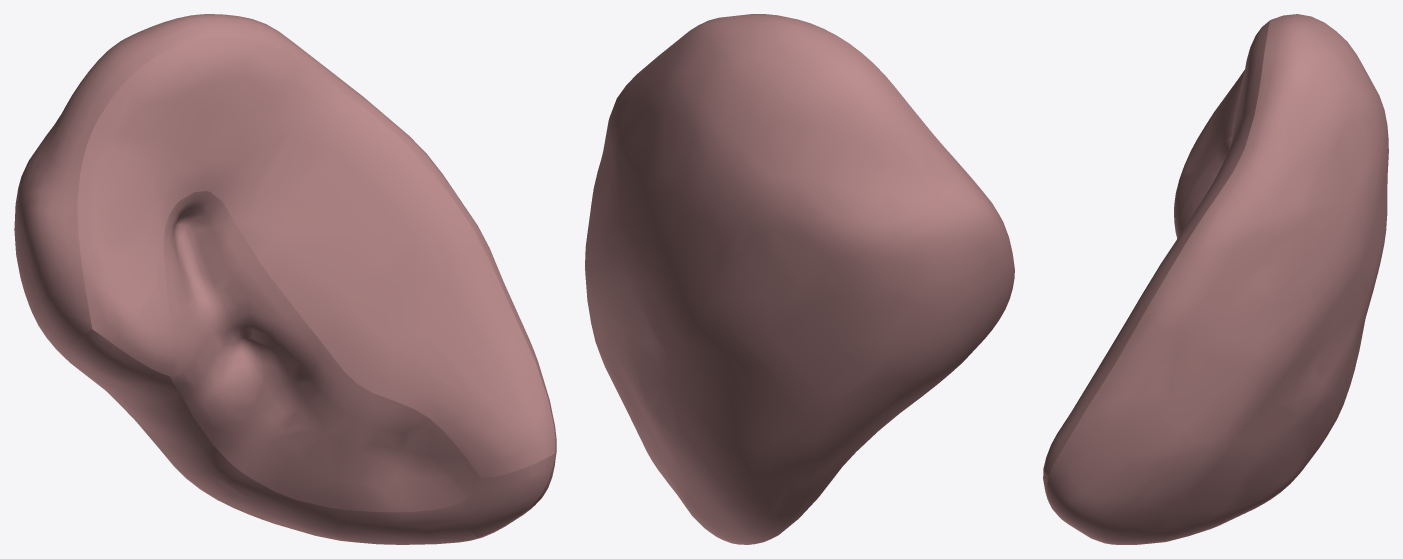
The model's file is spleen.glb.
3 renders of one model, left to right at view 1: azimuth 30°, elevation 25°; view 2: azimuth 150°, elevation 25°; view 3: azimuth 270°, elevation 25°, orthographic. The views are drawn at different scales.
Parts seen in each view (by area): view 1: VH_F_gastric_surface_of_spleen; view 2: VH_F_gastric_surface_of_spleen; view 3: VH_F_gastric_surface_of_spleen.
Part boxes in pixels (x1,y1,x2,y2): VH_F_gastric_surface_of_spleen: (14,14,556,544); VH_F_gastric_surface_of_spleen: (585,14,1014,544); VH_F_gastric_surface_of_spleen: (1043,14,1388,544).
Size of the model in its own units: 0.0896 by 0.1023 by 0.0709.
